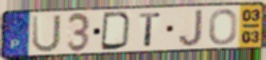3: (66, 10, 92, 54)
D: (99, 11, 133, 51)
J: (177, 8, 204, 48)
O: (208, 8, 239, 47)
T: (138, 11, 163, 48)
U: (31, 13, 63, 54)
